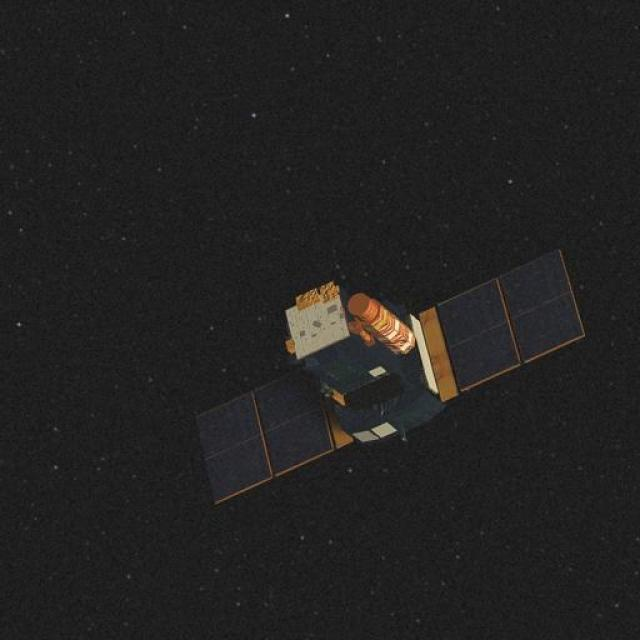soho: (197, 244, 560, 483)
